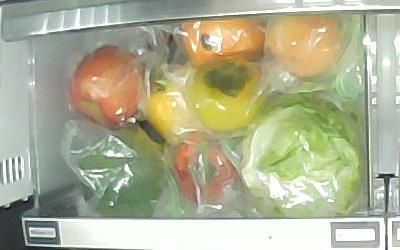apple_vinyl: (69, 45, 146, 130)
broccoli_vinyl: (77, 132, 165, 217)
grapefruit_vinyl: (181, 19, 265, 68)
lettuce_vinyl: (240, 96, 365, 216)
paprika_vinyl: (175, 140, 236, 204), (148, 70, 194, 144)
peach_vinyl: (266, 14, 342, 79)
persimmon_vinyl: (187, 57, 266, 131)
